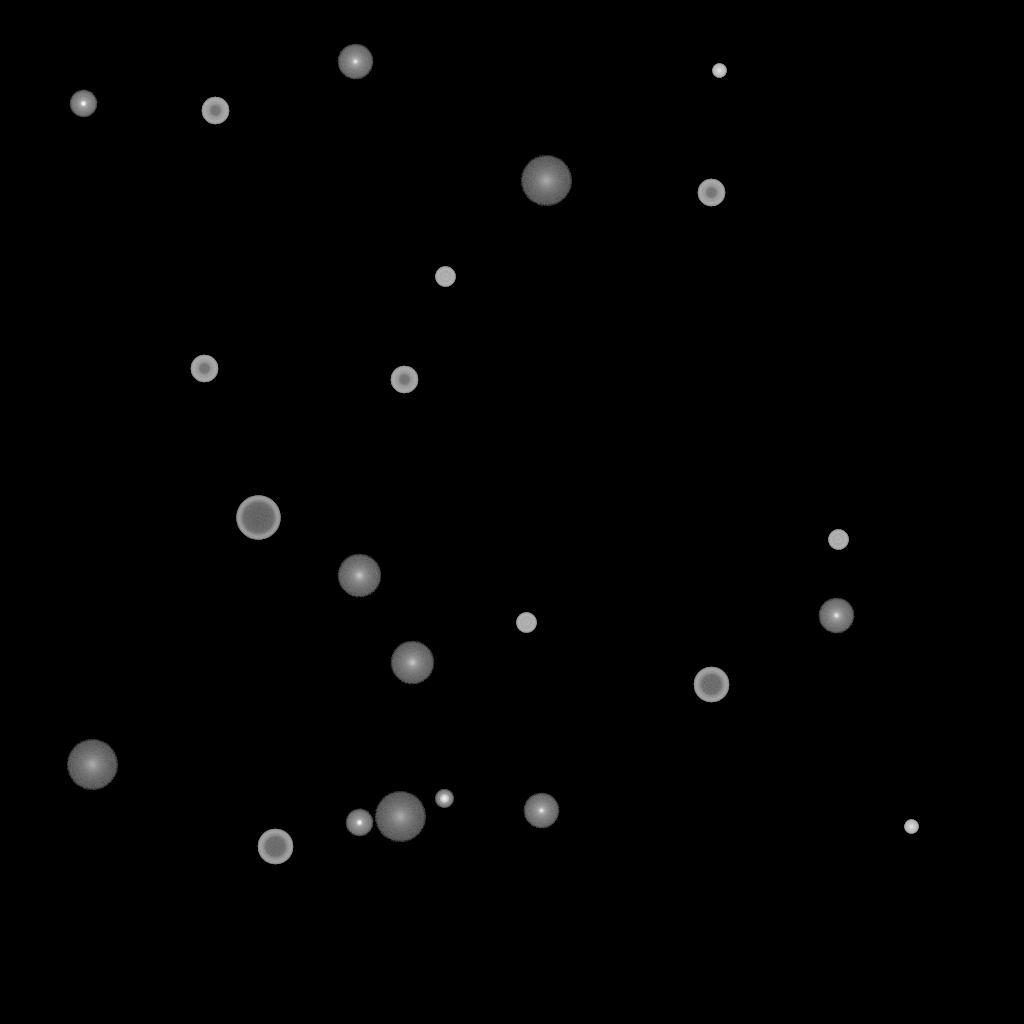depth:-10: (69, 90, 97, 118), (345, 809, 373, 837)
depth:-20: (435, 790, 453, 808)
depth:-30: (904, 820, 918, 834), (712, 64, 726, 78)
depth:-40: (516, 613, 536, 633), (828, 530, 848, 550), (435, 267, 455, 287)
depth:-50: (390, 366, 418, 394), (201, 97, 229, 125), (190, 355, 218, 383), (697, 179, 725, 207)
depth:-60: (257, 829, 293, 865), (693, 667, 729, 703)
depth:-70: (236, 496, 280, 540)
depth:0: (818, 598, 854, 634), (337, 44, 373, 80), (523, 793, 559, 829)
depth:10: (337, 554, 381, 598), (390, 641, 434, 685)
depth:20: (66, 740, 118, 790), (520, 156, 572, 206), (374, 792, 426, 842)
